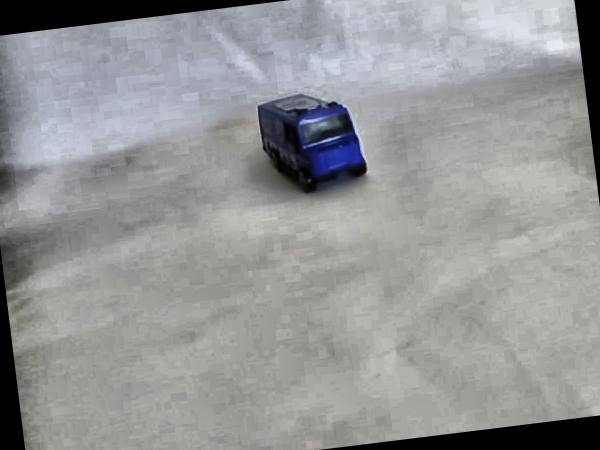police car: (255, 86, 371, 194)
